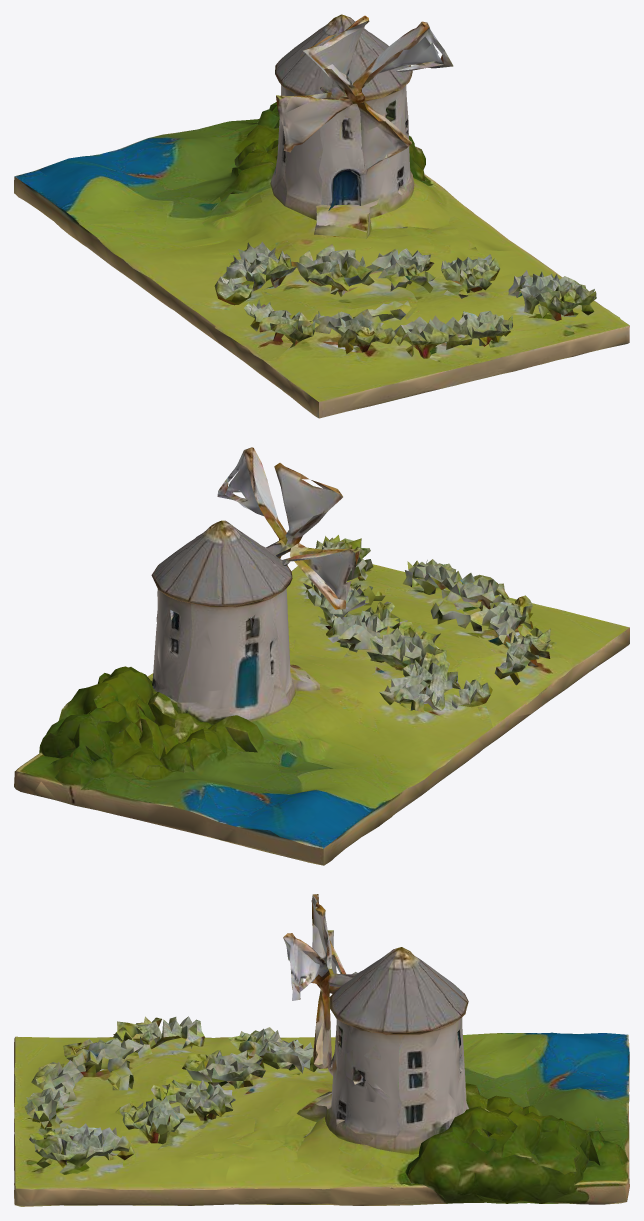
Rendered from shodoshima-olive-park.glb.
3 renders of one model, top to bottom at view 1: azimuth 30°, elevation 25°; view 2: azimuth 150°, elevation 25°; view 3: azimuth 270°, elevation 25°, orthographic.
Parts seen in each view (by area): view 1: logan-textured.obj; view 2: logan-textured.obj; view 3: logan-textured.obj.
Boxes of the visible parts, left/top/right/bottom form: logan-textured.obj: left=14, top=14, right=629, bottom=418; logan-textured.obj: left=14, top=447, right=629, bottom=865; logan-textured.obj: left=14, top=894, right=629, bottom=1206.
Bounding box in the file's own units: 0.6105 × 0.4431 × 1.
1 material, 1 textured.
